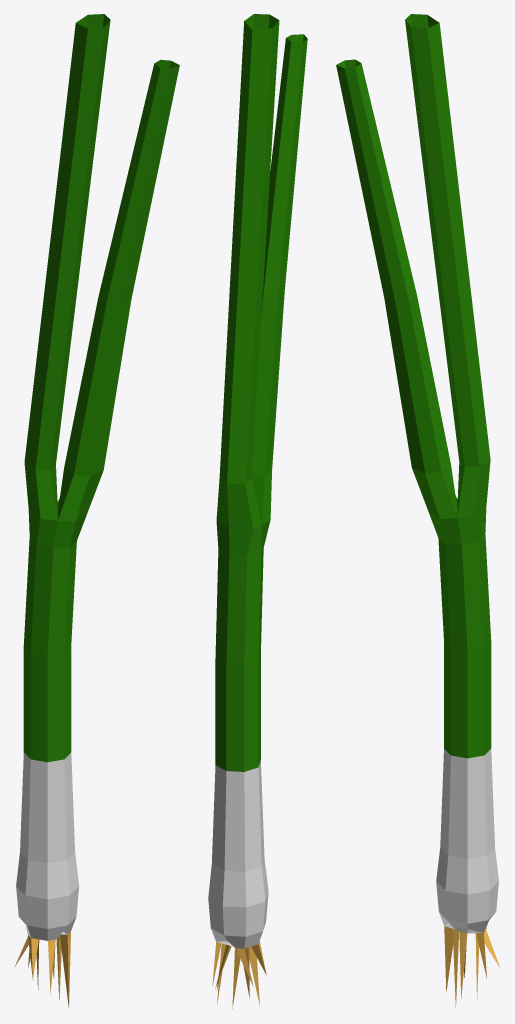
File: scallion01.gltf
The picture shows the model from 3 angles, left to right: view 1: azimuth 90°, elevation 25°; view 2: azimuth 150°, elevation 25°; view 3: azimuth 270°, elevation 25°; orthographic projection.
Parts seen in each view (by area): view 1: Cylinder; view 2: Cylinder; view 3: Cylinder.
Boxes of the visible parts, x1,y1,x2,y2 form: Cylinder: (15, 14, 179, 1007); Cylinder: (208, 14, 307, 1008); Cylinder: (336, 14, 500, 1007).
Bounding box in the file's own units: 0.0209 × 0.3622 × 0.055.
1 material, 1 textured.
